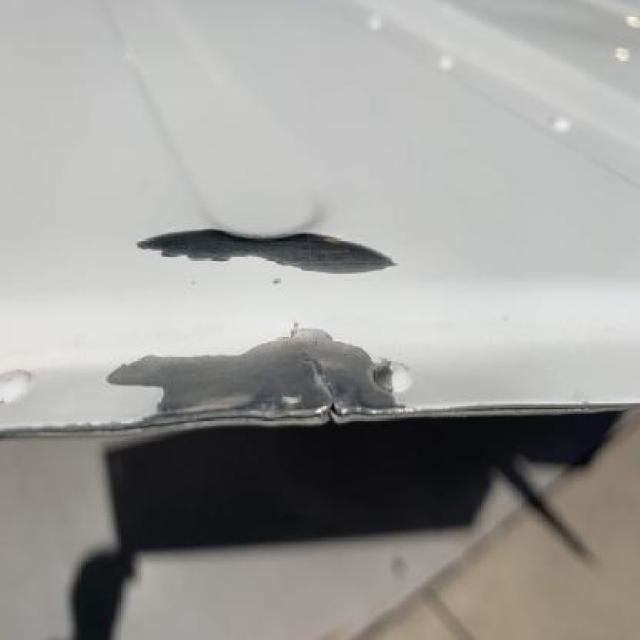crack: (302, 360, 341, 411)
